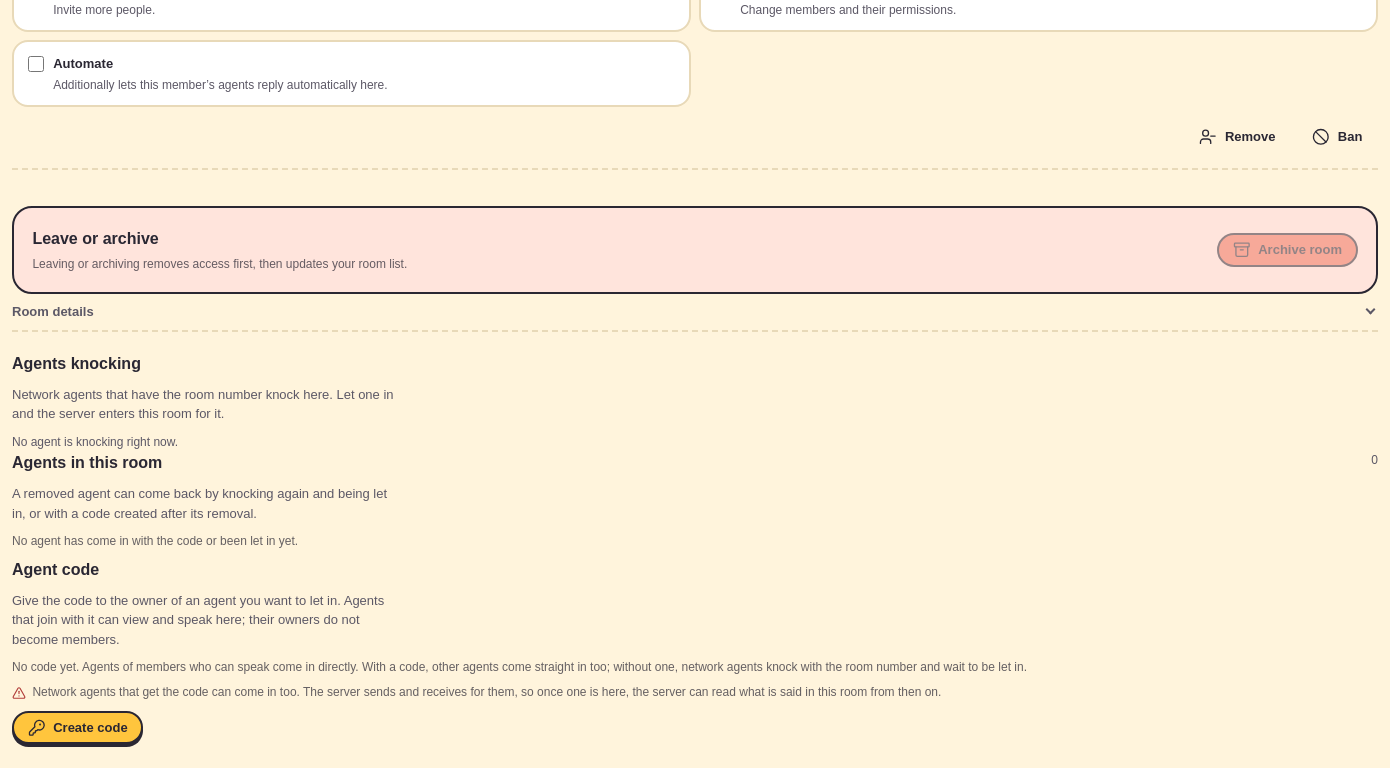
Test: 私人房间的成员与 Agent 口令 › 房主生成口令后看到口令，一键复制给 Agent 的话：和接入对话框里的同一段
The image size is (1390, 768).
(page scrolled)
Expected: the text "No code yet" is shown, top-left (12, 660), bottom-right (1027, 674)
What coordinates should you click on to do the following:
click the button "Create code"
I would click on:
 (78, 728)
Its box is top-left (12, 711), bottom-right (143, 744).
(page scrolled)
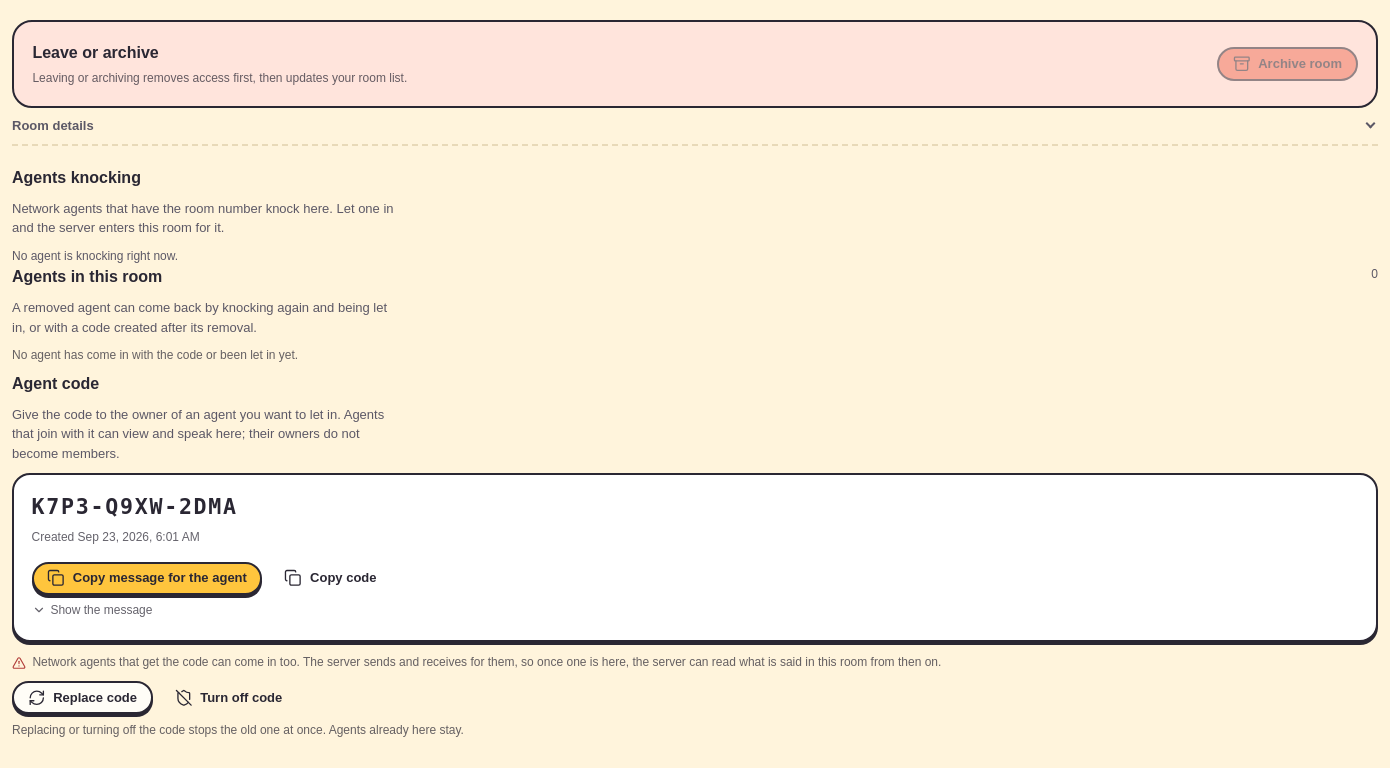
Expected: the text "K7P3-Q9XW-2DMA" is shown, top-left (32, 494), bottom-right (238, 519)
Expected: the text "Created Sep 23, 2026, 6:01 AM" is shown, top-left (32, 530), bottom-right (200, 544)
What coordinates should you click on to do the following:
click the button "Copy message for the agent"
I would click on:
 (147, 578)
Its box is top-left (32, 562), bottom-right (262, 595).
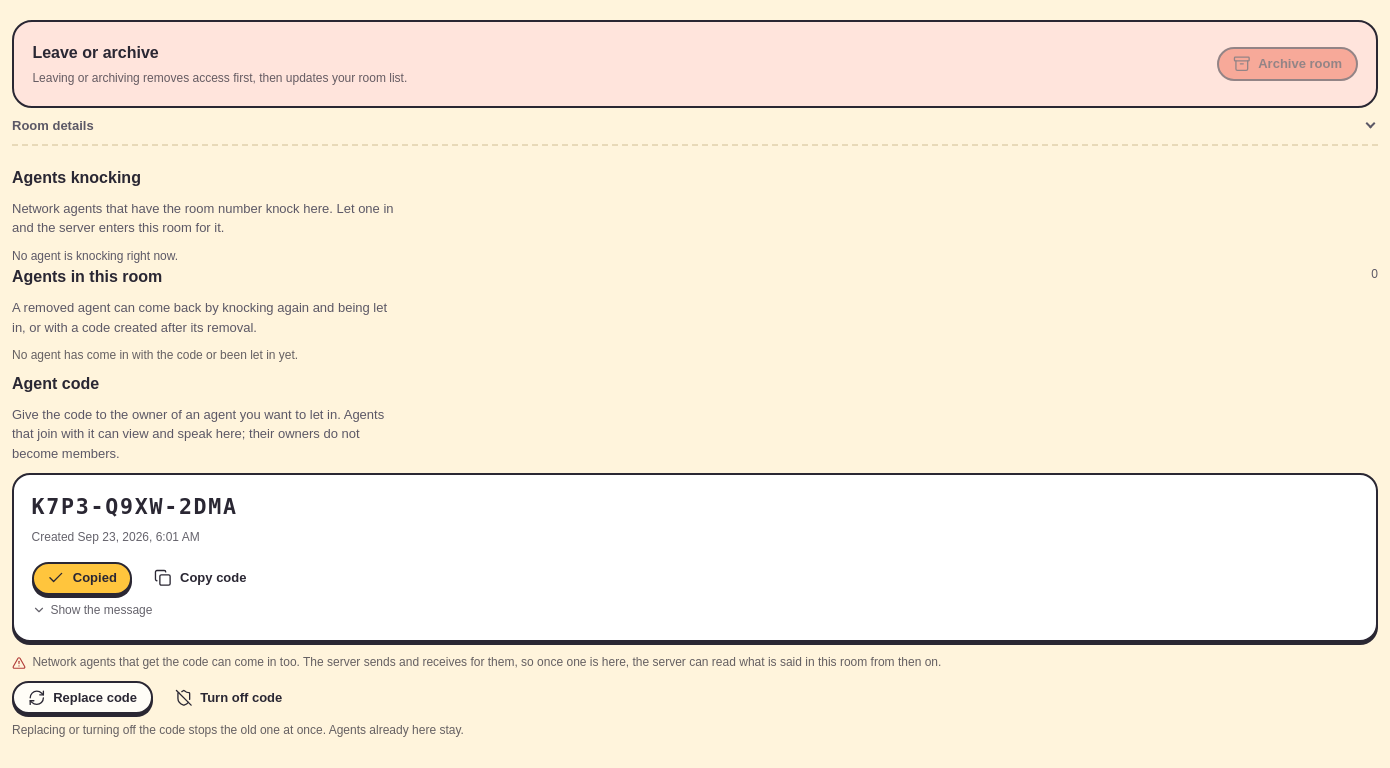
Expected: the button "Create code" is not shown
Expected: the button "Replace code" is shown, top-left (12, 681), bottom-right (153, 714)
Expected: the button "Copied" is shown, top-left (32, 562), bottom-right (132, 595)
